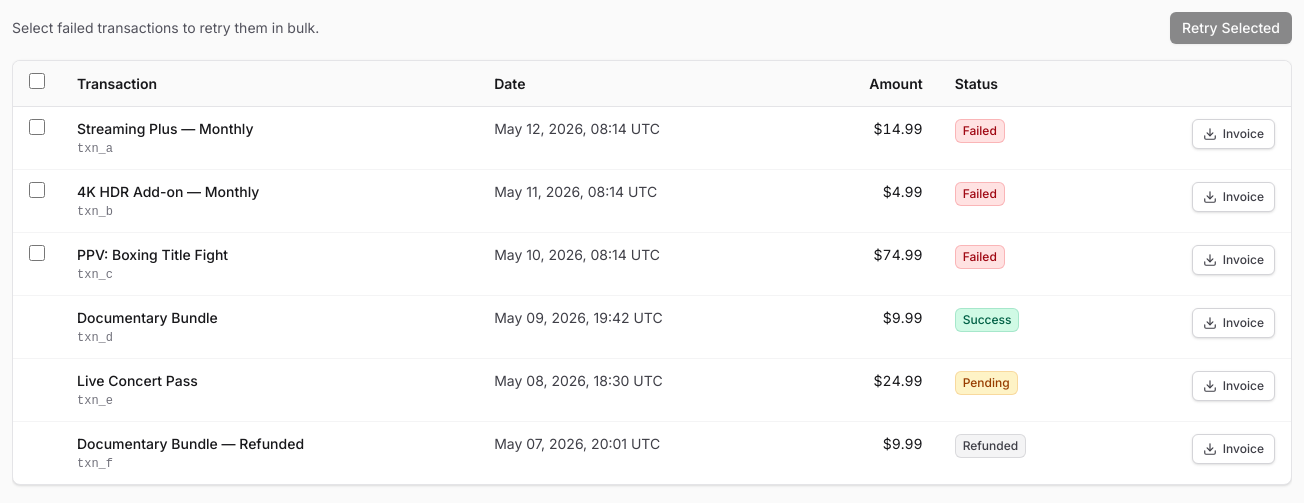
TransactionsTable › disables the Retry Selected button until at least one row is selected
This screenshot has width=1304, height=503.
Expected: the button "Retry Selected" is disabled, 1170,12 -> 1292,44
Click the checkbox named "select transaction txn_a": (37, 127) 29,119 -> 45,135
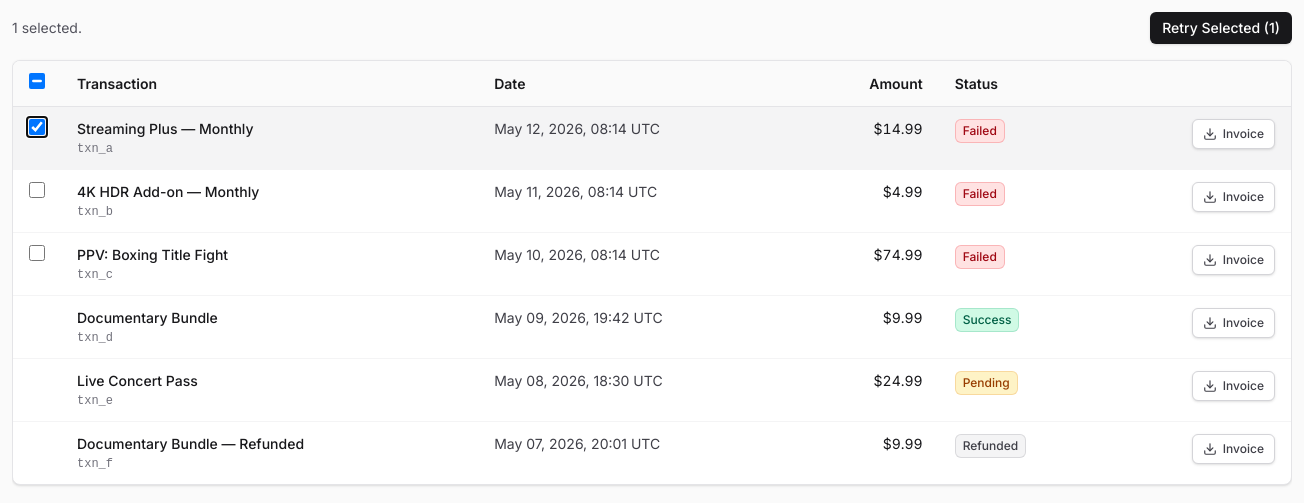
Result: the button "Retry Selected (1)" is enabled at 1150,12 -> 1292,44
